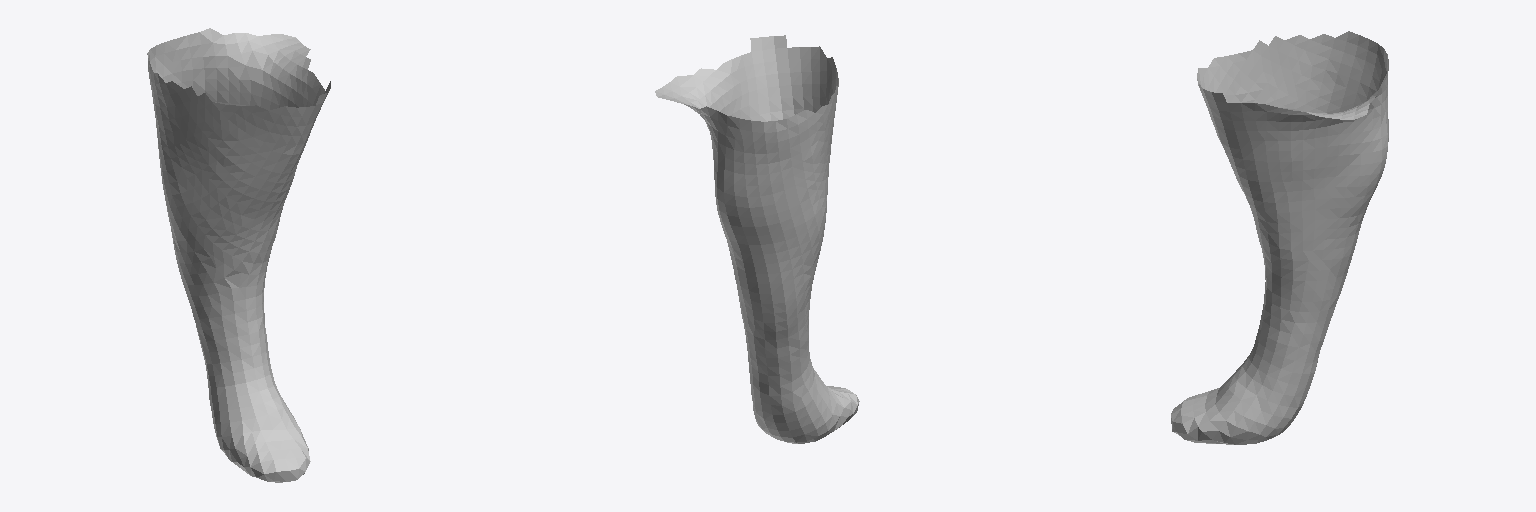
The model's file is pataDelanteraDer.obj.
The picture shows the model from 3 angles: view 1: azimuth 30°, elevation 25°; view 2: azimuth 150°, elevation 25°; view 3: azimuth 270°, elevation 25°; orthographic projection.
Visible parts, largest first — view 1: polySurface6; view 2: polySurface6; view 3: polySurface6.
Part boxes in pixels (x1,y1,x2,y2): polySurface6: (147, 28, 330, 482); polySurface6: (655, 35, 859, 443); polySurface6: (1171, 31, 1388, 444).
Size of the model in its own units: 0.477 by 1.13 by 0.5919.